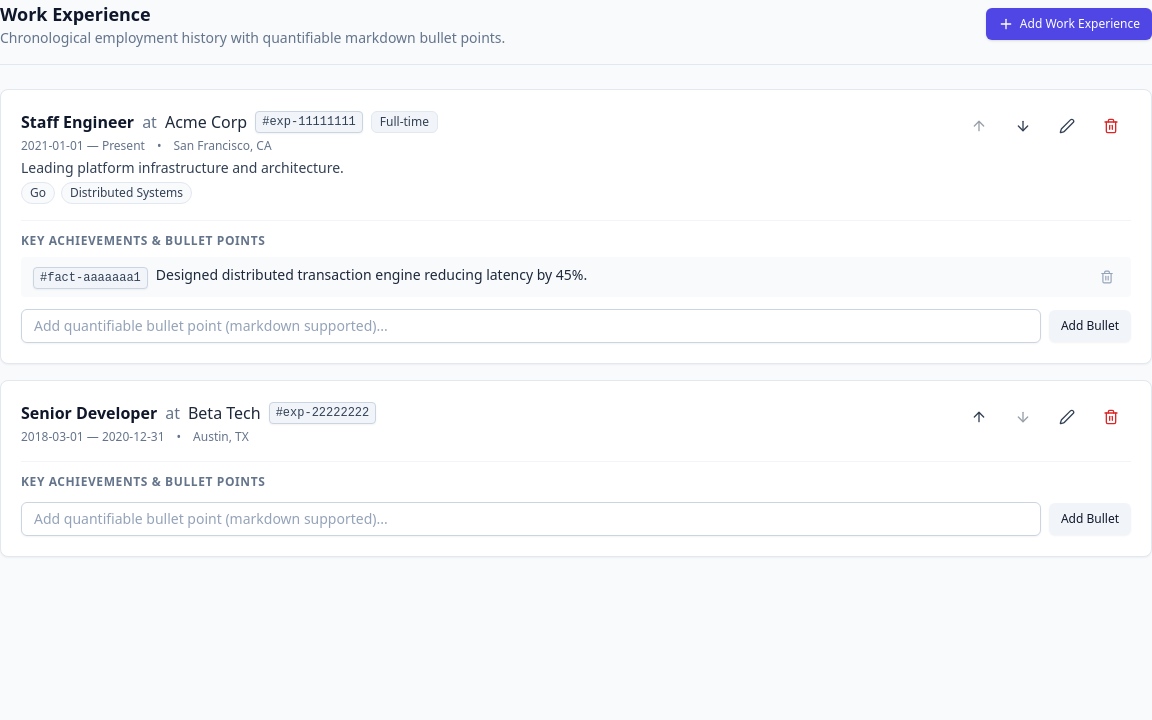
it: ExperienceList › toggles extended details section when expanding collapsible in dialog
This screenshot has width=1152, height=720.
Click the button "Add Work Experience": {"x": 1069, "y": 24} x1=986 y1=8 x2=1151 y2=40
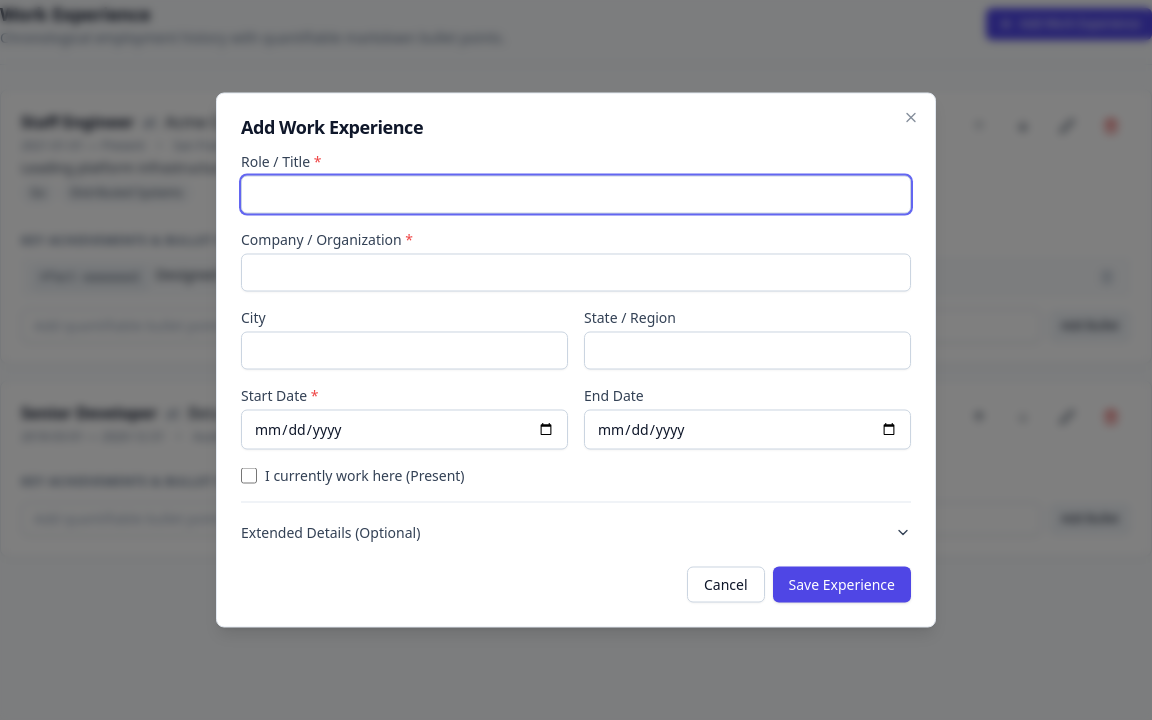
expect the field labelled "Employment Type" is not shown: met
Click the button "Extended Details (Optional)": {"x": 331, "y": 532} x1=241 y1=514 x2=911 y2=550
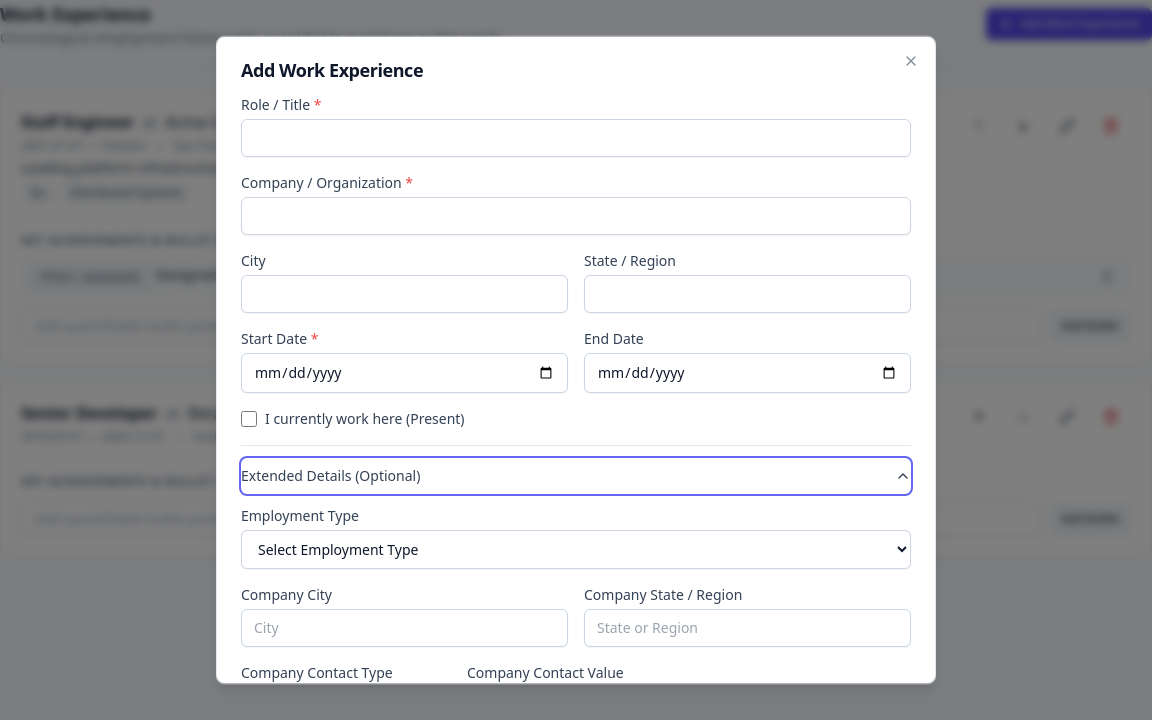
expect the button "Extended Details (Optional)" is expanded: met
expect the dropdown labelled "Employment Type" is shown: met, box x1=241 y1=530 x2=911 y2=569
expect the field labelled "Company City" is shown: met, box x1=241 y1=609 x2=568 y2=647
Click the button "Extended Details (Optional)": {"x": 331, "y": 476} x1=241 y1=458 x2=911 y2=494
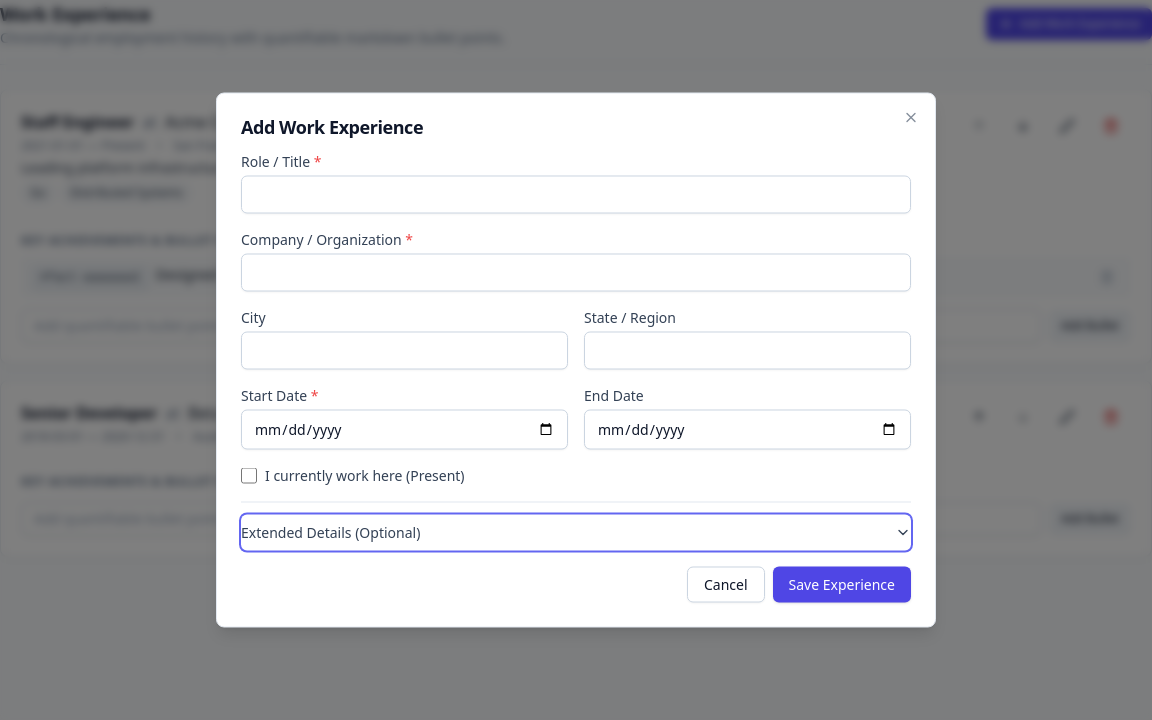
expect the button "Extended Details (Optional)" is collapsed: met, box x1=241 y1=514 x2=911 y2=550
expect the label labelled "Employment Type" is gone: met
